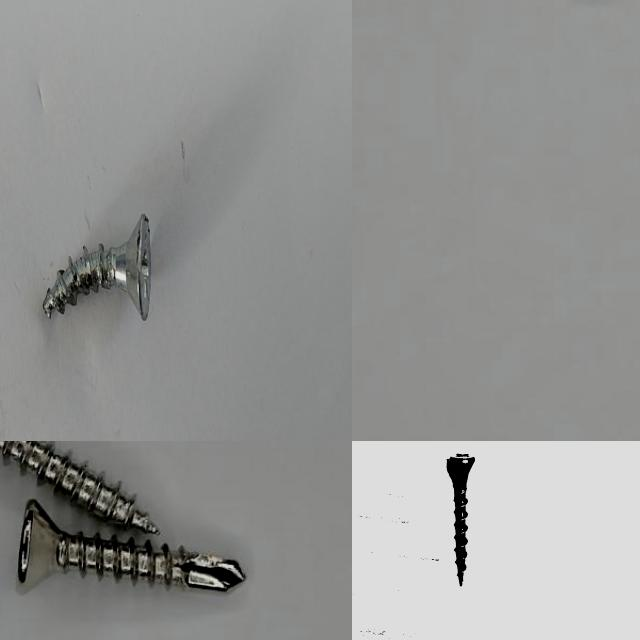Screw: (18, 500, 246, 593), (0, 441, 158, 533), (43, 213, 151, 319), (447, 452, 475, 585)
